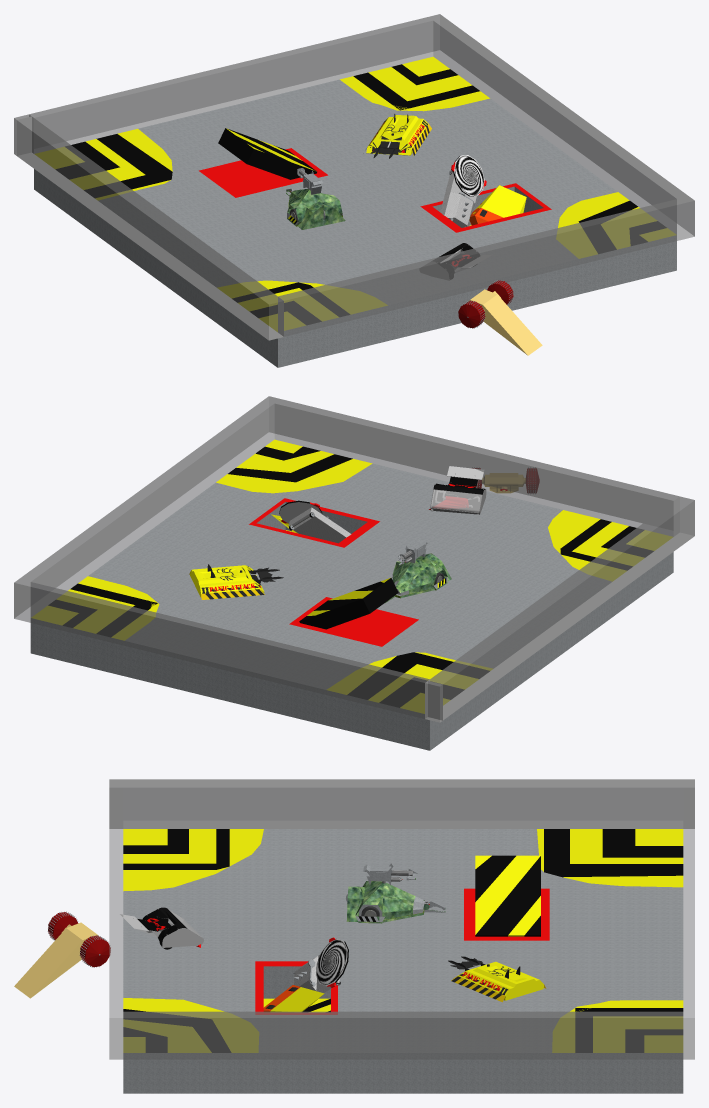
Rendered from robots3.glb.
3 views of the same model, one above another, from view 1: azimuth 30°, elevation 25°; view 2: azimuth 150°, elevation 25°; view 3: azimuth 270°, elevation 25° (orthographic). The views are drawn at different scales.
Parts seen in each view (by area): view 1: skp; view 2: skp; view 3: skp.
Boxes of the visible parts, x1,y1,x2,y2 form: skp: [14, 14, 694, 367]; skp: [14, 396, 694, 750]; skp: [14, 779, 694, 1093].
Bounding box in the file's own units: 9.89 × 1.73 × 11.92.
17 materials, 14 textured.
